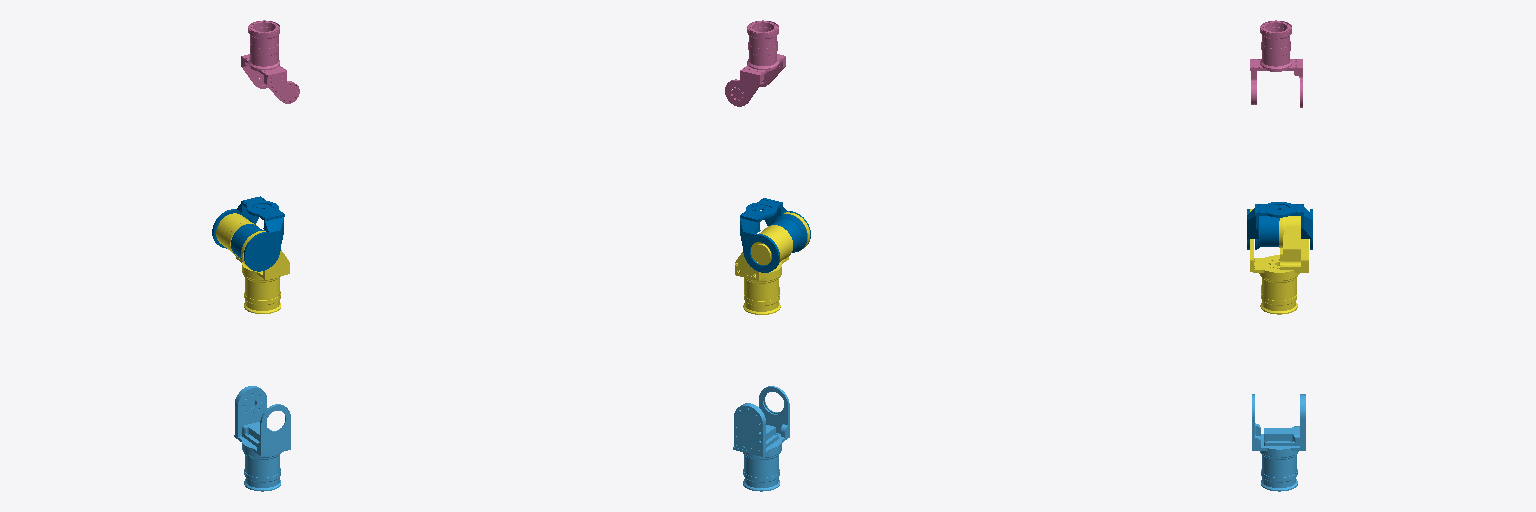
The robot description file, URDF, robot "dymaflight":
<?xml version="1.0" ?>
<robot name="dymaflight">

    <link name="dyma_base_link">
    </link>

    <link name="shld_yaw">
        <visual>
            <origin xyz="0 0 0" rpy="0 0 0" />
            <geometry>
               <mesh filename="package://nbv/urdf/meshes/shld_yaw.stl" scale="0.001 0.001 0.001"/>
            </geometry>
        </visual>
        <collision>
            <origin xyz="0 0 0" rpy="0 0 0" />
            <geometry>
               <mesh filename="package://nbv/urdf/meshes/shld_yaw.stl" scale="0.001 0.001 0.001"/>
            </geometry>
        </collision>
    </link>

    <joint name="joint1" type="revolute">
        <parent link="dyma_base_link" />
        <child link="shld_yaw" />
        <origin xyz="0 0 0.18161" rpy="0 0 0" />
        <axis xyz="0 0 1" />
        <limit effort="300" velocity="0.25" lower="-3.14159" upper="3.14159" />
    </joint>

    <link name="shld_ptch">
        <visual>
            <origin xyz="0 0 0" rpy="0 0 0" />
            <geometry>
               <mesh filename="package://nbv/urdf/meshes/shld_ptch.stl" scale="0.001 0.001 0.001"/>
            </geometry>
        </visual>
        <collision>
            <origin xyz="0 0 0" rpy="0 0 0" />
            <geometry>
               <mesh filename="package://nbv/urdf/meshes/shld_ptch.stl" scale="0.001 0.001 0.001"/>
            </geometry>
        </collision>
    </link>

    <joint name="joint2" type="revolute">
        <parent link="shld_yaw" />
        <child link="shld_ptch" />

        <origin xyz="0 0 0" rpy="-1.5708 0 3.14159 " />
        <axis xyz="0 0 1" />
        <limit effort="300" velocity="0.25" lower="-3.14159" upper="3.14159" />
    </joint>

    <link name="shld_roll">
        <visual>
            <origin xyz="0 0 0" rpy="0 0 0" />
            <geometry>
               <mesh filename="package://nbv/urdf/meshes/shld_roll.stl" scale="0.001 0.001 0.001"/>
            </geometry>
        </visual>
        <collision>
            <origin xyz="0 0 0" rpy="0 0 0" />
            <geometry>
               <mesh filename="package://nbv/urdf/meshes/shld_roll.stl" scale="0.001 0.001 0.001"/>
            </geometry>
        </collision>
    </link>

    <joint name="joint3" type="revolute">
        <parent link="shld_ptch" />
        <child link="shld_roll" />
        <origin xyz="0 -0.430022 0" rpy="1.5708 0 0" />
        <axis xyz="0 0 1" />
        <limit effort="300" velocity="0.25" lower="-3.14159" upper="3.14159" />
    </joint>

    <link name="elbw_ptch">
        <visual>
            <origin xyz="0 0 0" rpy="0 0 0" />
            <geometry>
               <mesh filename="package://nbv/urdf/meshes/elbw_ptch.stl" scale="0.001 0.001 0.001"/>
            </geometry>
        </visual>
        <collision>
            <origin xyz="0 0 0" rpy="0 0 0" />
            <geometry>
               <mesh filename="package://nbv/urdf/meshes/elbw_ptch.stl" scale="0.001 0.001 0.001"/>
            </geometry>
        </collision>
    </link>

    <joint name="joint4" type="revolute">
        <parent link="shld_roll" />
        <child link="elbw_ptch" />
        <origin xyz="0.041402 0 0" rpy="-1.5708 -3.14159 0" />
        <axis xyz="0 0 1" />
        <limit effort="300" velocity="0.25" lower="-3.14159" upper="3.14159" />
    </joint>

    <link name="wrst_roll">
        <visual>
            <origin xyz="0 0 0" rpy="0 0 0" />
            <geometry>
               <mesh filename="package://nbv/urdf/meshes/wrst_roll.stl" scale="0.001 0.001 0.001"/>
            </geometry>
        </visual>
        <collision>
            <origin xyz="0 0 0" rpy="0 0 0" />
            <geometry>
               <mesh filename="package://nbv/urdf/meshes/wrst_roll.stl" scale="0.001 0.001 0.001"/>
            </geometry>
        </collision>
    </link>

    <joint name="joint5" type="revolute">
        <parent link="elbw_ptch" />
        <child link="wrst_roll" />
        <origin xyz="0.041402 0.37084 0" rpy="-1.5708 0 0" />
        <axis xyz="0 0 1" />
        <limit effort="300" velocity="0.25" lower="-3.14159" upper="3.14159" />
    </joint>

    <link name="wrst_ptch">
        <visual>
            <origin xyz="0 0 0" rpy="0 0 0" />
            <geometry>
               <mesh filename="package://nbv/urdf/meshes/wrst_ptch.stl" scale="0.001 0.001 0.001"/>
            </geometry>
        </visual>
        <collision>
            <origin xyz="0 0 0" rpy="0 0 0" />
            <geometry>
               <mesh filename="package://nbv/urdf/meshes/wrst_ptch.stl" scale="0.001 0.001 0.001"/>
            </geometry>
        </collision>
    </link>

    <joint name="joint6" type="revolute">
        <parent link="wrst_roll" />
        <child link="wrst_ptch" />
        <origin xyz="0.033274 -0.007366 0" rpy="-1.5708 0 3.14159" />
        <axis xyz="0 0 1" />
        <limit effort="300" velocity="0.25" lower="-3.14159" upper="3.14159" />
    </joint>

    <link name="tool_roll">
        <visual>
            <origin xyz="0 0 0" rpy="0 0 0" />
            <geometry>
               <mesh filename="package://nbv/urdf/meshes/tool_roll.stl" scale="0.001 0.001 0.001"/>
            </geometry>
        </visual>
        <collision>
            <origin xyz="0 0 0" rpy="0 0 0" />
            <geometry>
               <mesh filename="package://nbv/urdf/meshes/tool_roll.stl" scale="0.001 0.001 0.001"/>
            </geometry>
        </collision>
    </link>

    <joint name="joint7" type="revolute">
        <parent link="wrst_ptch" />
        <child link="tool_roll" />
        <origin xyz="0.033274 0 0" rpy="1.5708 0 0" />
        <axis xyz="0 0 1" />
        <limit effort="300" velocity="0.25" lower="-3.14159" upper="3.14159" />
    </joint>

</robot>

--- What the picture shows (computed from the rendered views, not written in the file) ---
The picture shows the robot from 3 angles, left to right: view 1: azimuth 30°, elevation 25°; view 2: azimuth 150°, elevation 25°; view 3: azimuth 270°, elevation 25°; orthographic projection.
Model dymaflight with 8 links and 7 joints (7 revolute), rooted at dyma_base_link, posed all joints at 0.
Visible links, largest first — view 1: shld_yaw, elbw_ptch, wrst_ptch, shld_roll; view 2: shld_yaw, shld_roll, wrst_ptch, elbw_ptch; view 3: shld_roll, shld_yaw, wrst_ptch, elbw_ptch.
Link boxes in pixels (<box>): shld_yaw: <box>234,386,290,491</box>; elbw_ptch: <box>212,196,284,271</box>; wrst_ptch: <box>241,20,299,103</box>; shld_roll: <box>216,213,289,313</box>; shld_yaw: <box>733,386,789,491</box>; shld_roll: <box>735,212,809,314</box>; wrst_ptch: <box>725,20,785,106</box>; elbw_ptch: <box>740,198,810,272</box>; shld_roll: <box>1250,209,1308,314</box>; shld_yaw: <box>1252,394,1305,491</box>; wrst_ptch: <box>1250,20,1302,107</box>; elbw_ptch: <box>1247,202,1312,249</box>.
Size in the robot's own frame: 0.1532 by 0.1464 by 1.13 metres.
4 mesh visuals loaded from 7 distinct referenced files (4 binary STL); not drawn: 3 (reference not matched to a file when rendering).